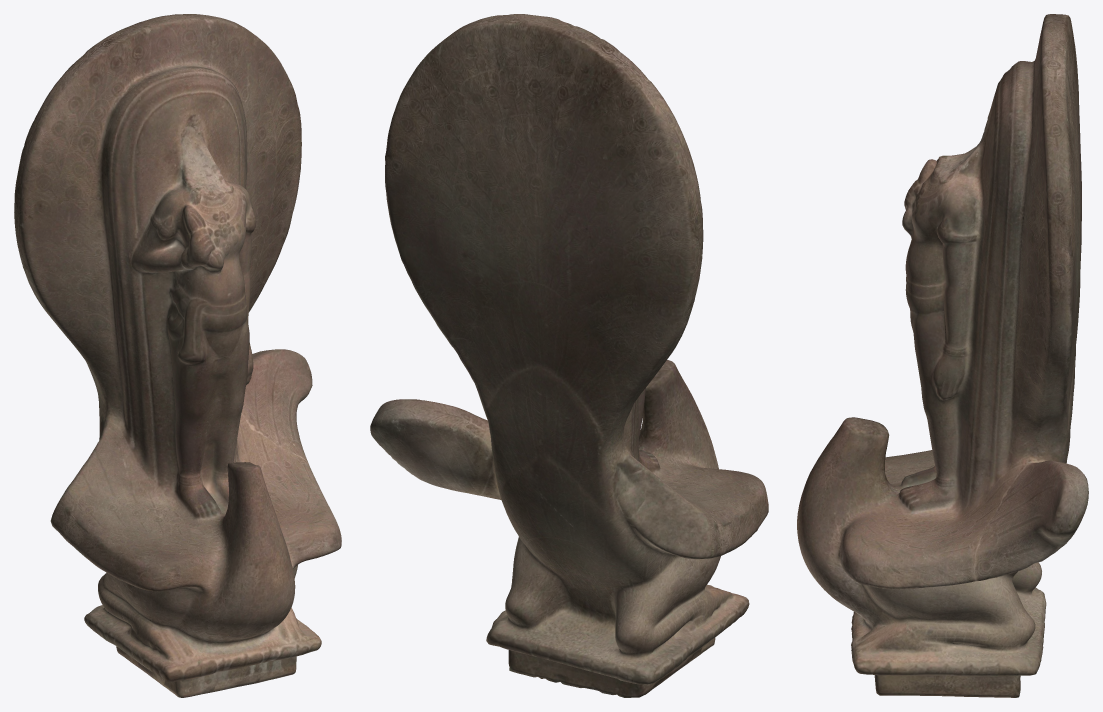
The model's file is 16_Skanda_final.glb.
3 renders of one model, left to right at view 1: azimuth 30°, elevation 25°; view 2: azimuth 150°, elevation 25°; view 3: azimuth 270°, elevation 25°, orthographic. The views are drawn at different scales.
Bounding box in the file's own units: 0.4589 × 0.9138 × 0.3775.
Materials: 1 (1 with a texture image).
